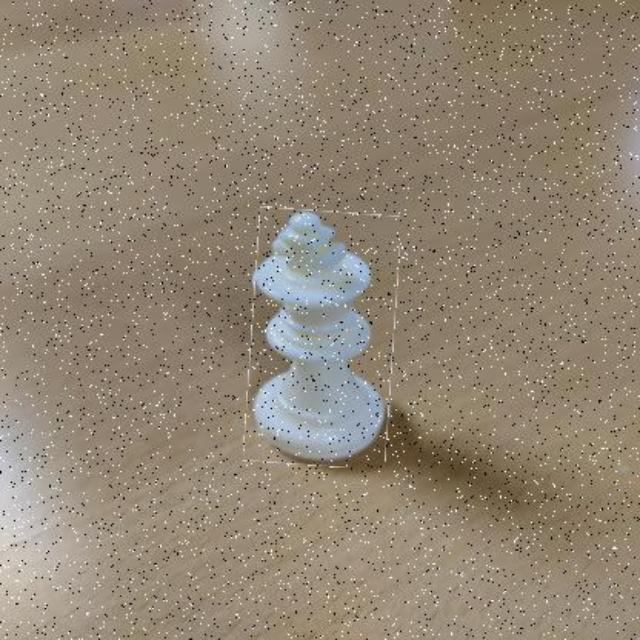white-king: (248, 209, 398, 467)
